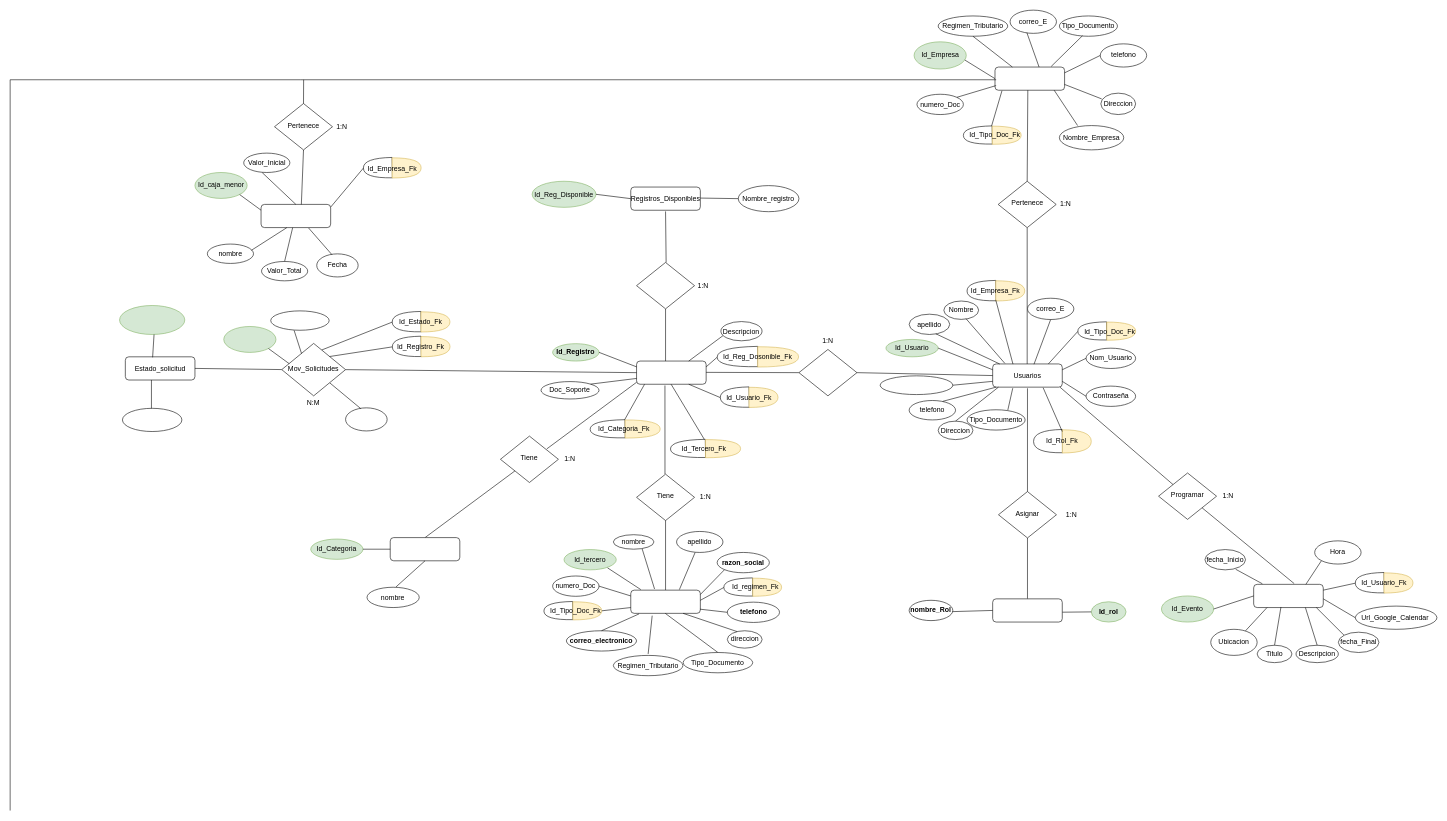
Image size: 1447x821. Some labels were removed from this diagram. The centre of each missing label's shape, as x and y in pixels:
"Caja_menor" goes at [295,216].
"Categorias" goes at [425,549].
"Crear" goes at [827,372].
"Elegir" goes at [665,285].
"Empresa" goes at [1029,78].
"Eventos" goes at [1288,596].
"Fecha_Hora" goes at [366,419].
"Id_Estado_solicitud" goes at [152,319].
"Id_Movimiento" goes at [249,339].
"Nombre_Estado" goes at [152,420].
"Numero_Documento" goes at [916,385].
"Registros" goes at [671,372].
"Roles" goes at [1027,610].
"Terceros" goes at [665,601].
"valor_Movimiento" goes at [299,320].
